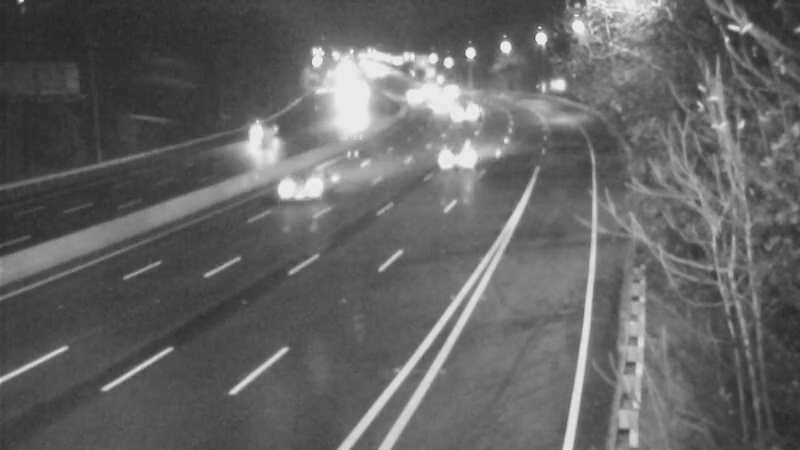vehicle: (415, 120, 495, 200), (264, 147, 344, 227), (423, 69, 473, 119), (386, 69, 436, 119), (407, 76, 457, 126), (444, 86, 494, 136), (232, 116, 282, 166)
